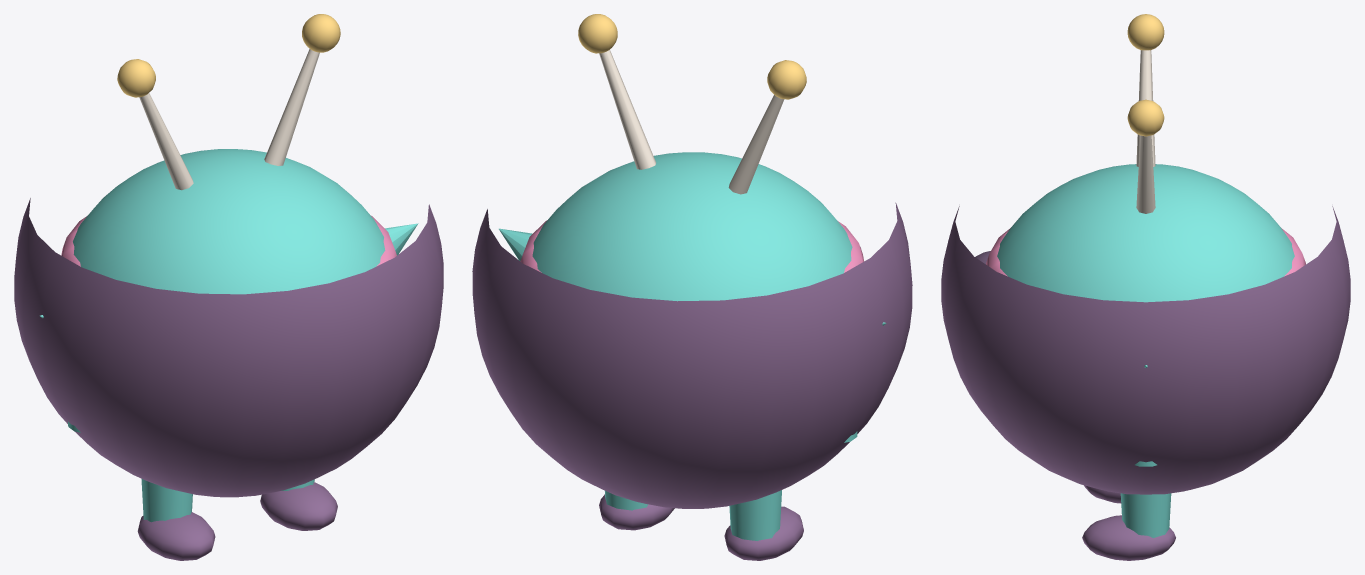
File: zil.glb
3 renders of one model, left to right at view 1: azimuth 30°, elevation 25°; view 2: azimuth 150°, elevation 25°; view 3: azimuth 270°, elevation 25°, orthographic. The views are drawn at different scales.
Parts seen in each view (by area): view 1: cape, body, legL, antR, legR, antL, zil; view 2: cape, body, legL, antR, antL, legR, zil; view 3: cape, body, legR, antR, antL, zil.
Boxes of the visible parts, <box> form: cape: <box>14,198,443,497</box>; body: <box>73,149,385,294</box>; legL: <box>137,478,215,560</box>; antR: <box>264,14,340,165</box>; legR: <box>260,479,337,530</box>; antL: <box>117,59,193,190</box>; zil: <box>61,215,396,266</box>; cape: <box>472,202,912,508</box>; body: <box>532,152,852,301</box>; legL: <box>724,490,803,560</box>; antR: <box>578,14,656,169</box>; antL: <box>728,60,806,194</box>; legR: <box>599,491,674,530</box>; zil: <box>520,220,864,272</box>; cape: <box>941,206,1350,494</box>; body: <box>997,164,1294,302</box>; legR: <box>1082,493,1175,560</box>; antR: <box>1127,99,1164,213</box>; antL: <box>1127,14,1164,166</box>; zil: <box>975,228,1305,276</box>.
Bounding box in the file's own units: 1.24 × 1.54 × 1.22.
